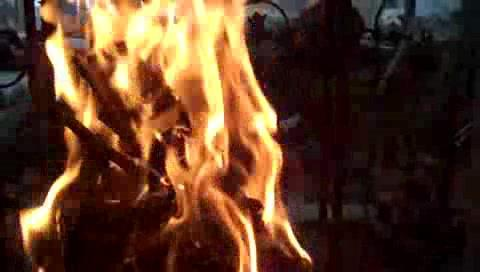fire: (36, 9, 290, 247)
